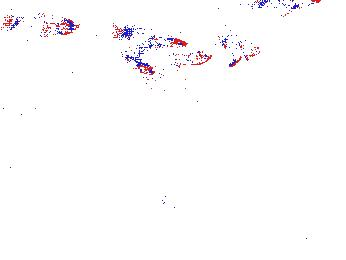red belly glassfish: (140, 73, 188, 91), (125, 55, 156, 75)
redtail glassfish: (122, 38, 212, 67), (115, 19, 190, 48), (5, 9, 77, 37), (218, 31, 263, 59)
